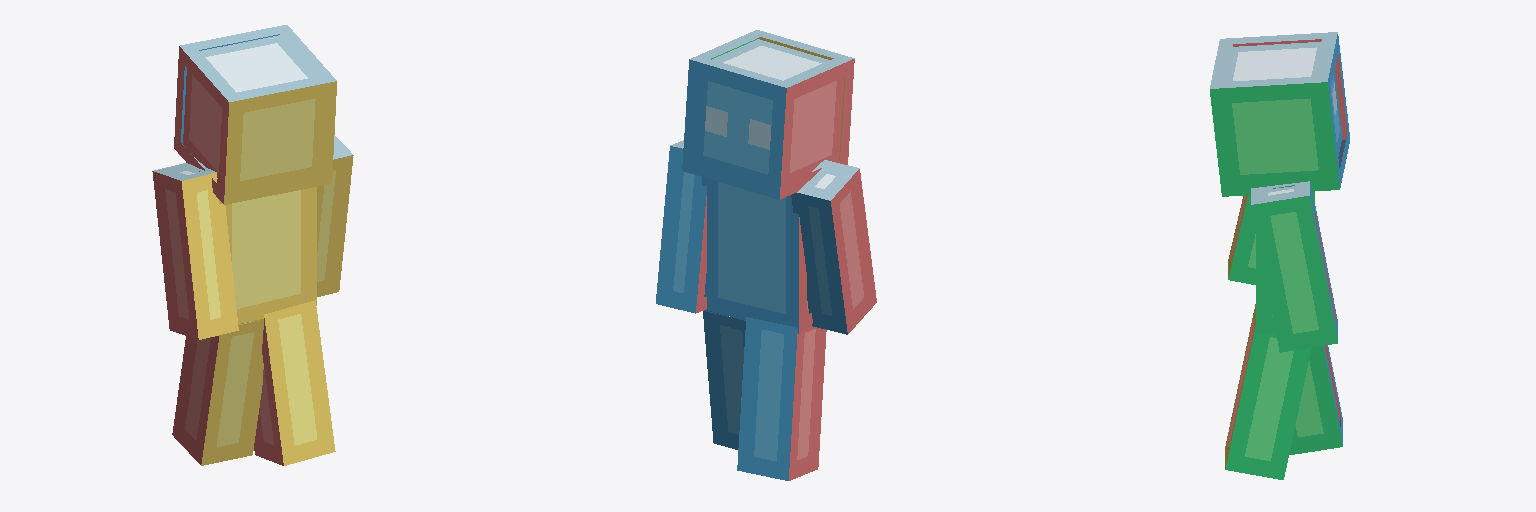
The picture shows the model from 3 angles: view 1: azimuth 30°, elevation 25°; view 2: azimuth 150°, elevation 25°; view 3: azimuth 270°, elevation 25°; orthographic projection.
Visible parts, largest first — view 1: Head, Hat Layer, Body, Left Arm Layer, Right Leg Layer, Left Leg Layer, Left Leg, Right Leg, Left Arm, Right Arm Layer, Body Layer, Right Arm; view 2: Head, Hat Layer, Body, Left Arm Layer, Left Leg Layer, Left Leg, Right Arm Layer, Body Layer, Left Arm, Right Leg, Right Leg Layer, Right Arm; view 3: Head, Hat Layer, Right Arm Layer, Right Leg Layer, Right Arm, Right Leg, Left Leg Layer, Left Arm Layer, Left Leg, Body Layer.
Boxes of the visible parts, <box> form: Head: <box>183,35,322,188</box>; Hat Layer: <box>174,25,336,204</box>; Body: <box>232,189,304,312</box>; Left Arm Layer: <box>152,163,238,339</box>; Right Leg Layer: <box>254,296,335,465</box>; Left Leg Layer: <box>172,319,263,465</box>; Left Leg: <box>181,331,257,451</box>; Right Leg: <box>258,311,320,449</box>; Left Arm: <box>161,167,223,323</box>; Right Arm Layer: <box>317,135,353,296</box>; Body Layer: <box>194,157,316,325</box>; Right Arm: <box>317,170,338,285</box>; Head: <box>695,39,843,181</box>; Hat Layer: <box>682,30,854,199</box>; Body: <box>714,181,808,318</box>; Left Arm Layer: <box>791,160,876,334</box>; Left Leg Layer: <box>737,317,826,480</box>; Left Leg: <box>751,327,818,464</box>; Right Arm Layer: <box>656,140,706,313</box>; Body Layer: <box>702,177,812,333</box>; Left Arm: <box>805,170,867,319</box>; Right Leg: <box>717,324,743,438</box>; Right Leg Layer: <box>703,310,745,449</box>; Right Arm: <box>670,162,694,296</box>; Head: <box>1226,42,1342,182</box>; Hat Layer: <box>1210,32,1349,196</box>; Right Arm Layer: <box>1251,181,1337,352</box>; Right Leg Layer: <box>1225,304,1311,479</box>; Right Arm: <box>1266,186,1320,337</box>; Right Leg: <box>1230,336,1295,464</box>; Left Leg Layer: <box>1289,345,1342,454</box>; Left Arm Layer: <box>1228,195,1255,284</box>; Left Leg: <box>1294,346,1338,441</box>; Body Layer: <box>1256,191,1314,332</box>.
Size of the model in its own units: 0.9062 by 2.09 by 0.6649.
1 materials, 1 textured.